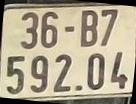-: (63, 25, 76, 34)
.: (76, 84, 83, 93)
0: (86, 53, 105, 90)
2: (53, 53, 72, 94)
3: (21, 10, 38, 51)
4: (109, 51, 128, 90)
5: (6, 55, 26, 95)
6: (42, 11, 59, 49)
7: (101, 9, 120, 45)
9: (30, 55, 48, 93)
B: (80, 10, 98, 48)
